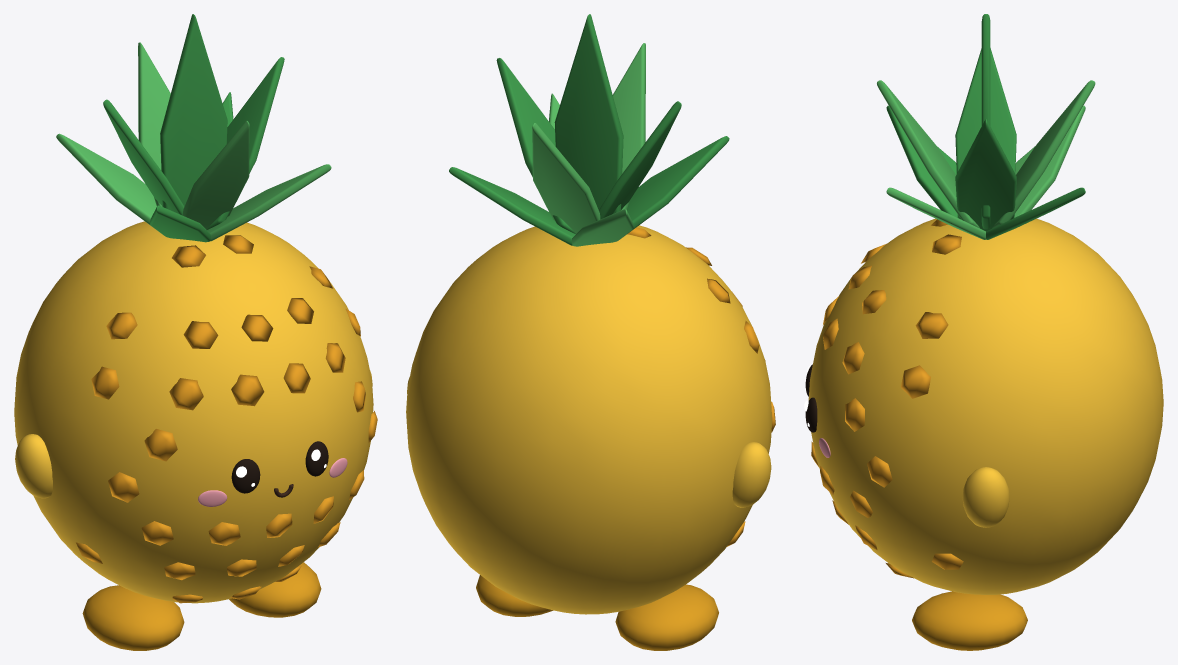
The model's file is pine.glb.
The picture shows the model from 3 angles, left to right: view 1: azimuth 30°, elevation 25°; view 2: azimuth 150°, elevation 25°; view 3: azimuth 270°, elevation 25°; orthographic projection. The views are drawn at different scales.
Visible parts, largest first — view 1: pine; view 2: pine; view 3: pine.
Part boxes in pixels (x1=…): pine: x1=14, y1=14, x2=377, y2=650; pine: x1=406, y1=14, x2=775, y2=650; pine: x1=804, y1=14, x2=1163, y2=650.
Bounding box in the file's own units: 0.0743 × 0.1223 × 0.0668.
